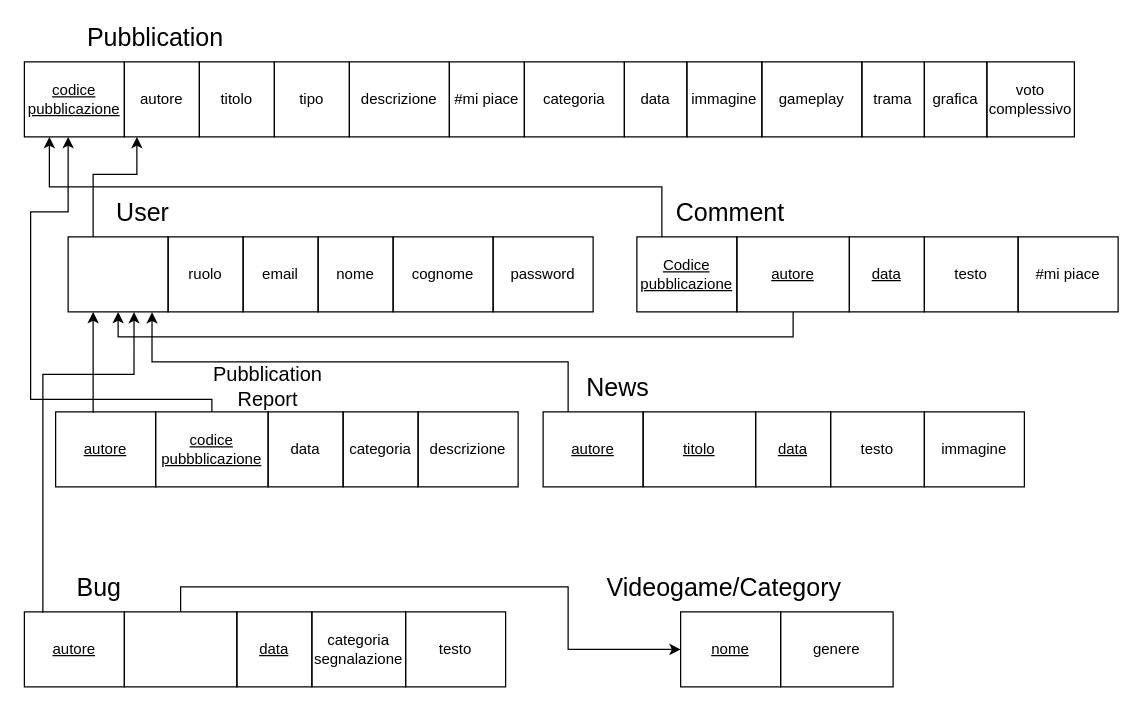
Some shapes in this 1140 by 709 pixel diagram are drawn without their labels. The shapes that lost their labels are listed below. From the top down, each one's centre as x and y in pixels, then its label:
At point 117,274: "nickname".
At point 180,649: "videogioco".
